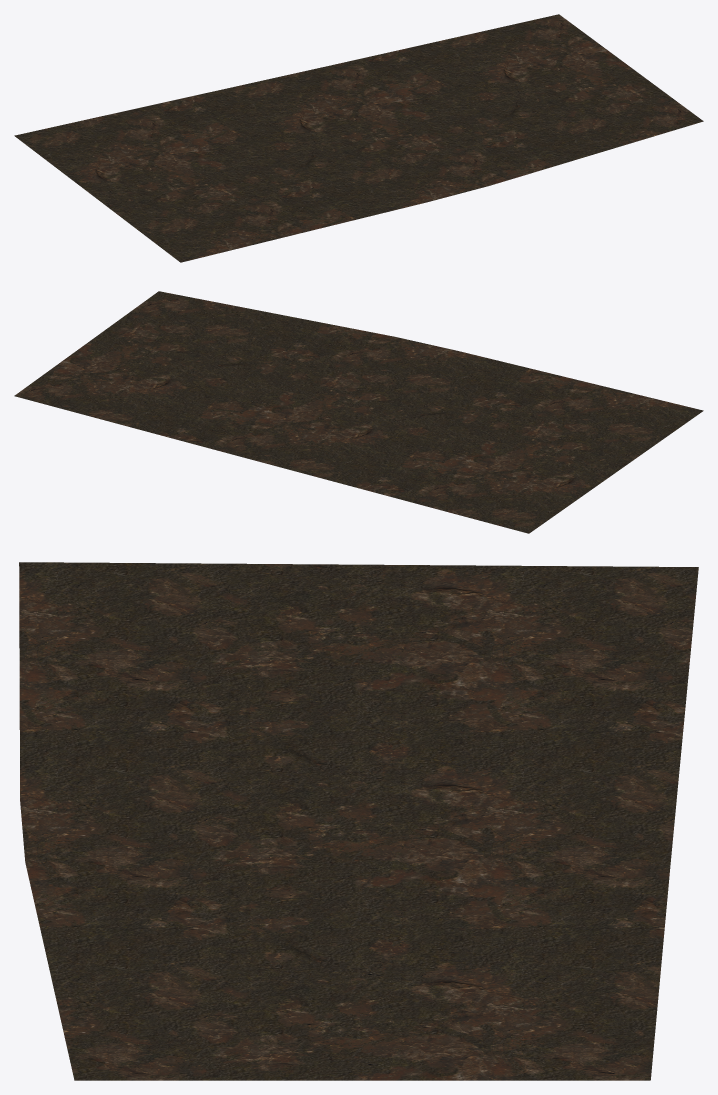
Rendered from ground3.glb.
3 views of the same model, one above another, from view 1: azimuth 30°, elevation 25°; view 2: azimuth 150°, elevation 25°; view 3: azimuth 270°, elevation 25° (orthographic). The views are drawn at different scales.
Parts seen in each view (by area): view 1: Plane; view 2: Plane; view 3: Plane.
Boxes of the visible parts, bbox=[...] form: Plane: bbox=[14, 14, 703, 262]; Plane: bbox=[14, 291, 703, 533]; Plane: bbox=[19, 562, 698, 1080].
Bounding box in the file's own units: 122 × 0.0745 × 67.52.
Materials: 1 (1 with a texture image).
